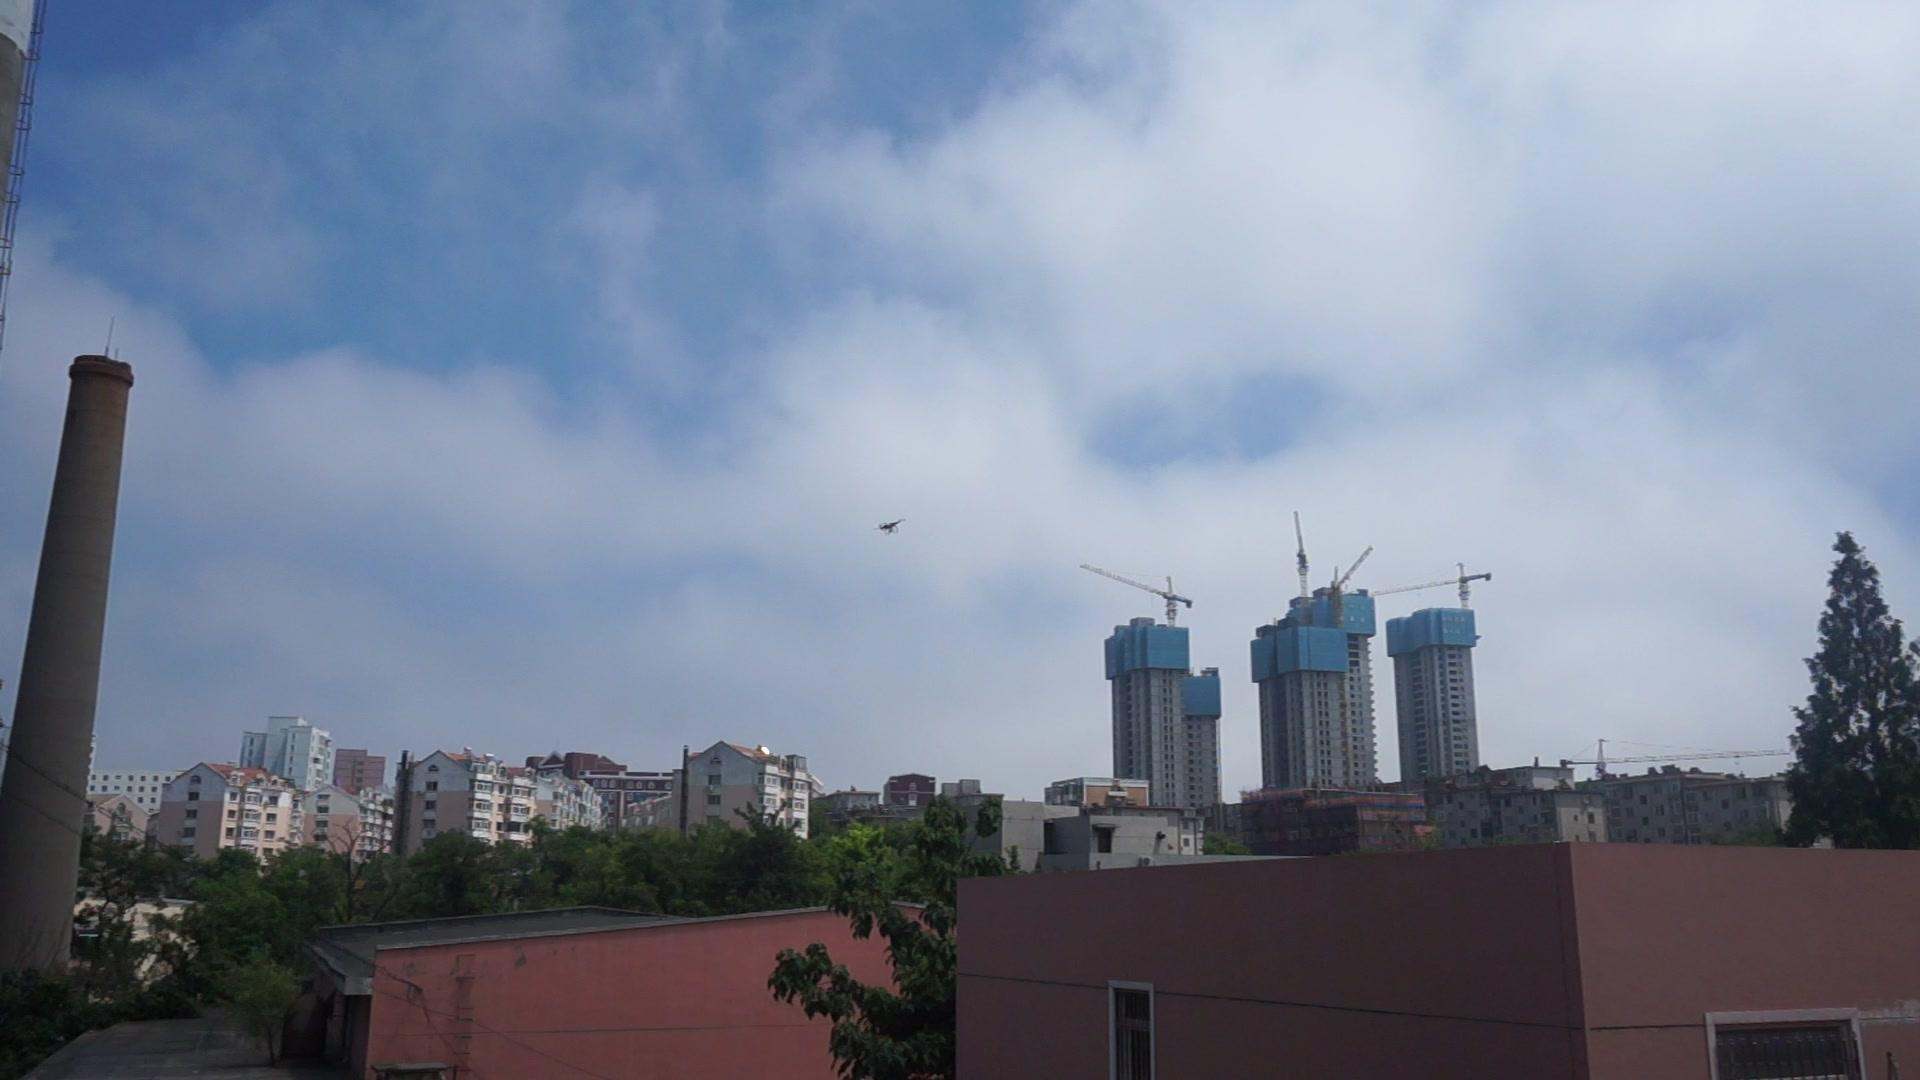UAV: (873, 520, 907, 535)
